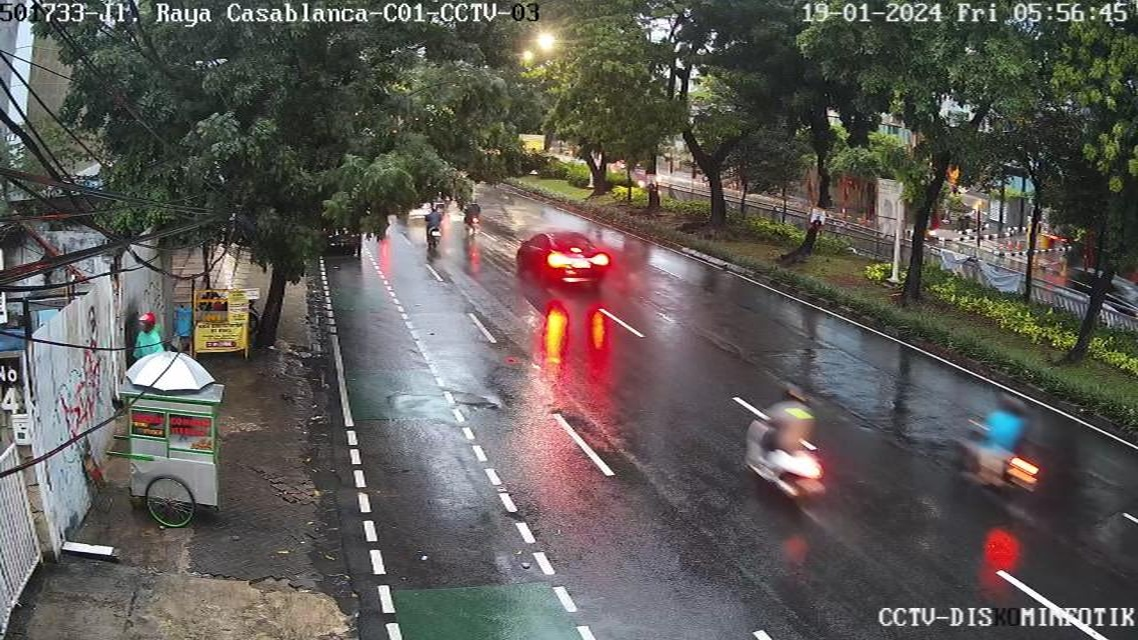Gerobak: (110, 385, 235, 534)
